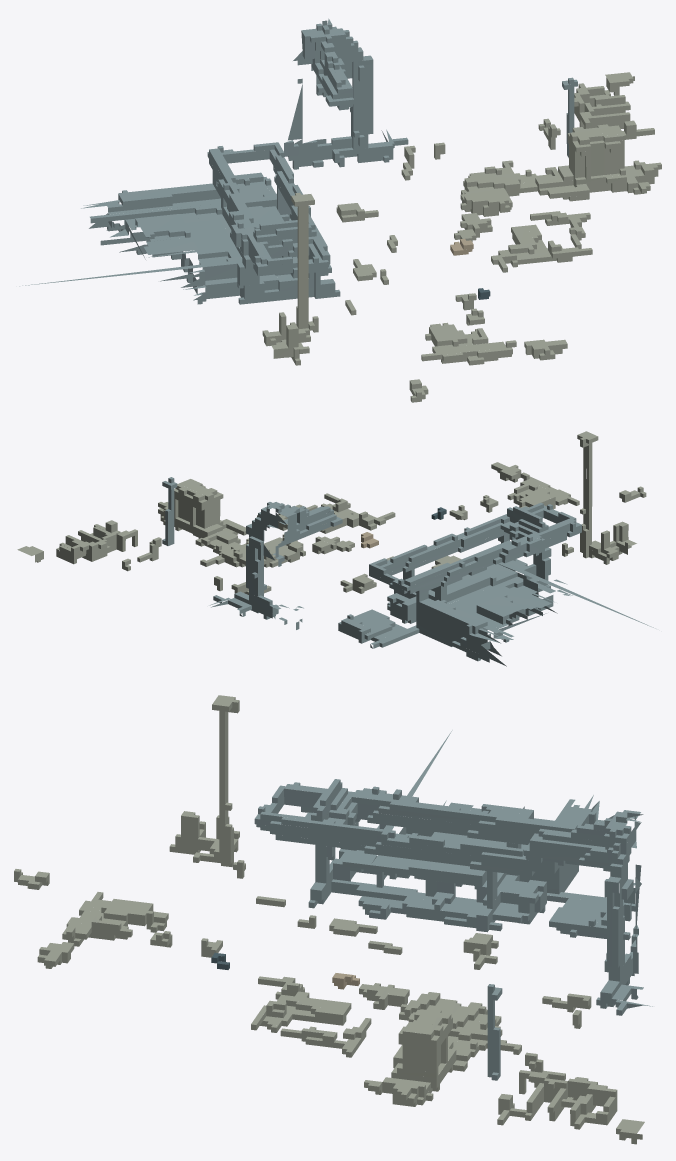
3 views of the same model, one above another, from view 1: azimuth 30°, elevation 25°; view 2: azimuth 150°, elevation 25°; view 3: azimuth 270°, elevation 25° (orthographic). The views are drawn at different scales.
Parts seen in each view (by area): view 1: measured-industrial; view 2: measured-industrial; view 3: measured-industrial.
Part boxes in pixels (x1,y1,x2,y2): measured-industrial: (19, 18, 661, 402); measured-industrial: (17, 431, 655, 666); measured-industrial: (14, 695, 652, 1144).
Size of the model in its own units: 237 by 46.64 by 165.
